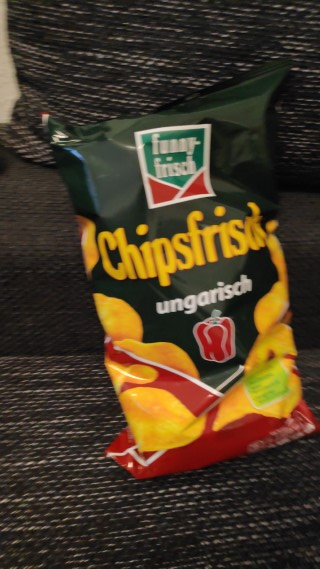chipsfrisch: (35, 59, 319, 482)
